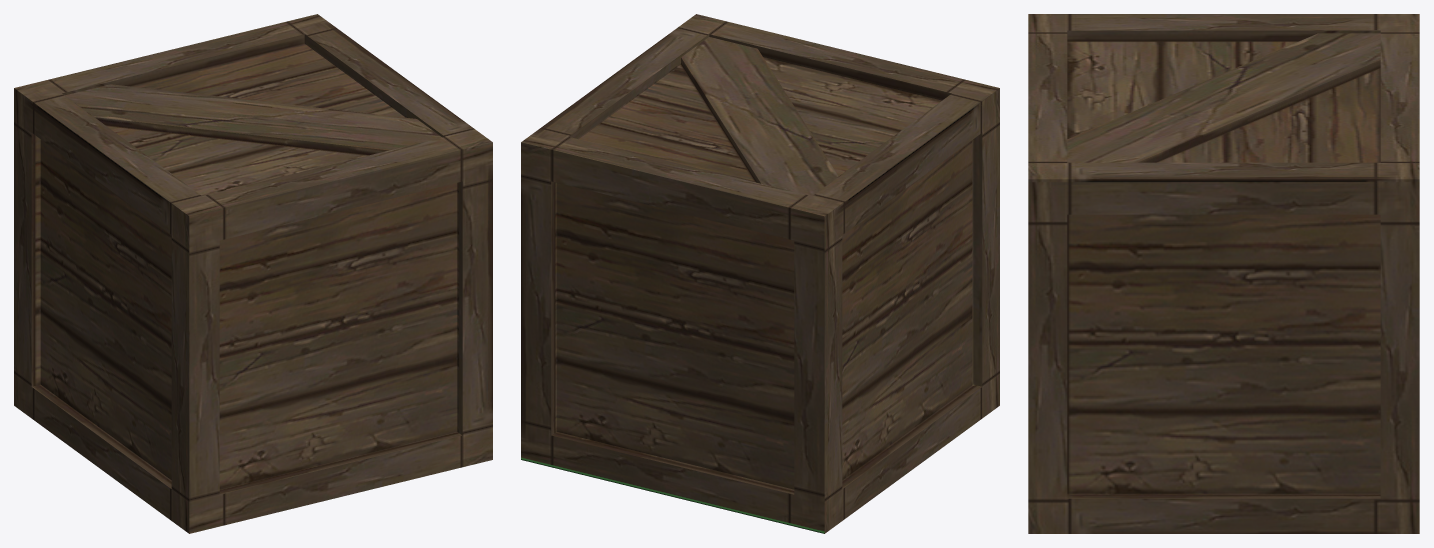
Rendered from crate.glb.
3 renders of one model, left to right at view 1: azimuth 30°, elevation 25°; view 2: azimuth 150°, elevation 25°; view 3: azimuth 270°, elevation 25°, orthographic. The views are drawn at different scales.
Parts seen in each view (by area): view 1: crate3_crate3_0; view 2: crate3_crate3_0; view 3: crate3_crate3_0.
Part boxes in pixels (x1,y1,x2,y2): crate3_crate3_0: (14, 14, 492, 533); crate3_crate3_0: (521, 14, 999, 533); crate3_crate3_0: (1028, 14, 1419, 533).
Size of the model in its own units: 5 by 5 by 5.
1 material, 1 textured.
